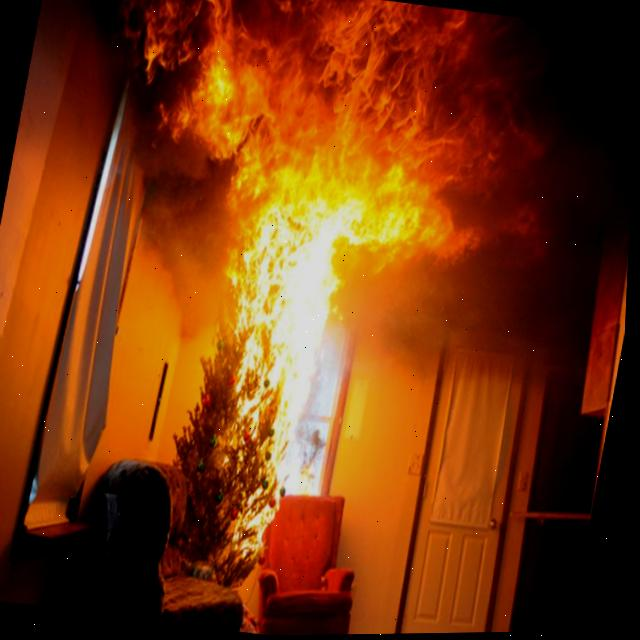fire: (128, 0, 468, 587)
smoke: (232, 0, 639, 376)
